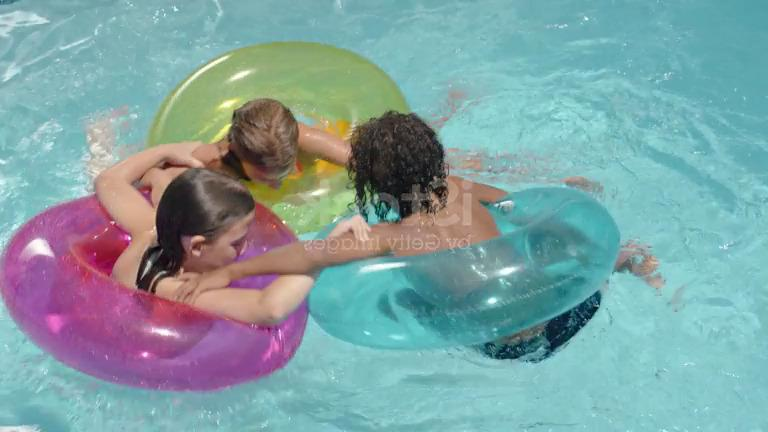Swimming: (15, 11, 394, 371), (362, 78, 584, 369)
